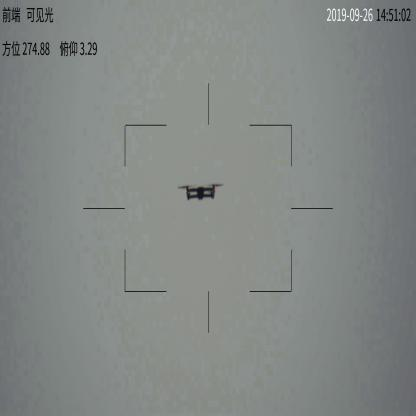uav: (180, 181, 222, 205)
